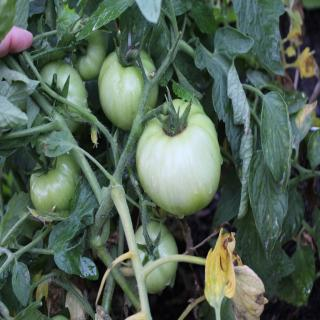tomato: (134, 83, 222, 218), (96, 29, 161, 137), (38, 61, 88, 131), (136, 217, 178, 296), (28, 155, 83, 214), (71, 32, 107, 80)
